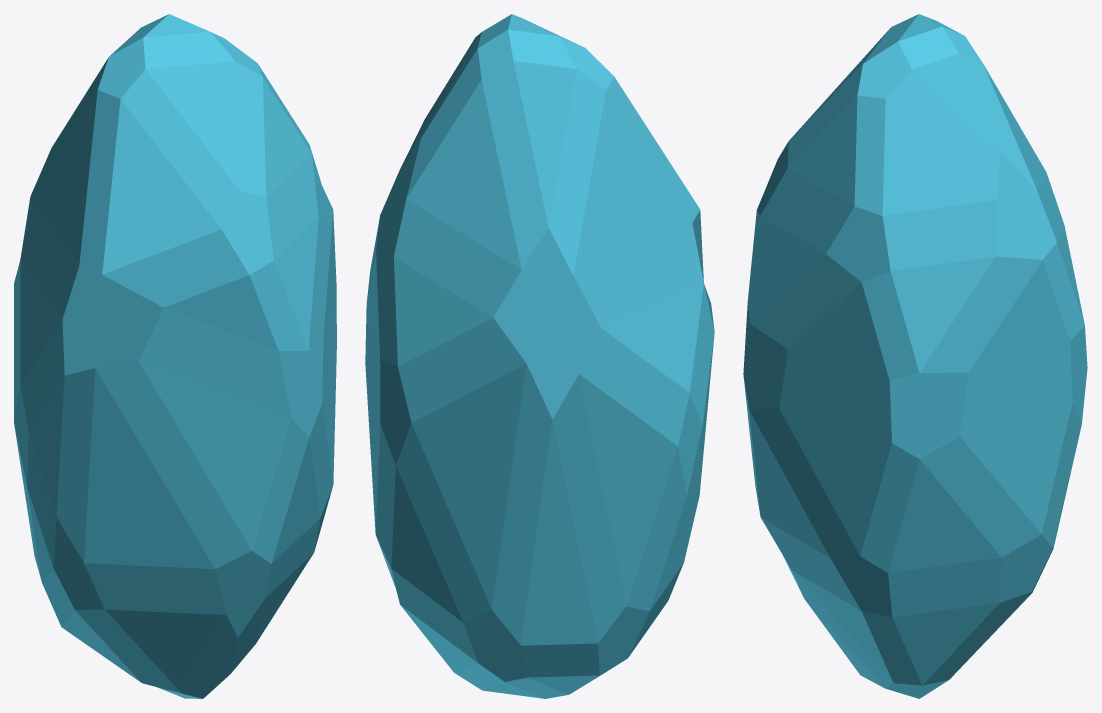
File: gardenCrystal.03.fbx
The picture shows the model from 3 angles, left to right: view 1: azimuth 30°, elevation 25°; view 2: azimuth 150°, elevation 25°; view 3: azimuth 270°, elevation 25°; orthographic projection. The views are drawn at different scales.
Parts seen in each view (by area): view 1: Icosphere; view 2: Icosphere; view 3: Icosphere.
Part boxes in pixels (left/top/right/bottom): Icosphere: left=14, top=14, right=336, bottom=698; Icosphere: left=365, top=14, right=714, bottom=698; Icosphere: left=743, top=14, right=1087, bottom=698.
Bounding box in the file's own units: 151 × 309 × 146.
